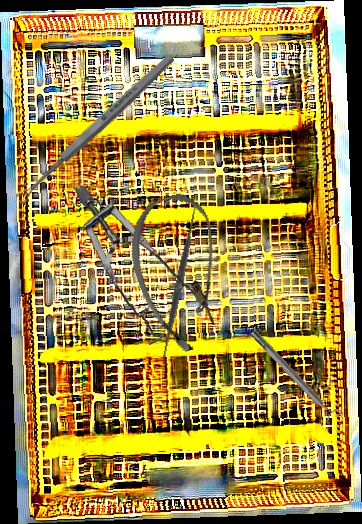Cannula: (115, 186, 248, 360)
Fixation Ring: (246, 324, 344, 428)
Spatula Surgical: (153, 204, 206, 366)
Speculum: (75, 175, 211, 350)
Surgical Spoon: (13, 52, 177, 205)
